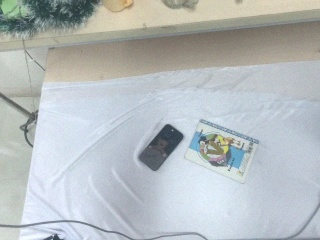book: (184, 119, 260, 185)
phone: (138, 123, 184, 172)
